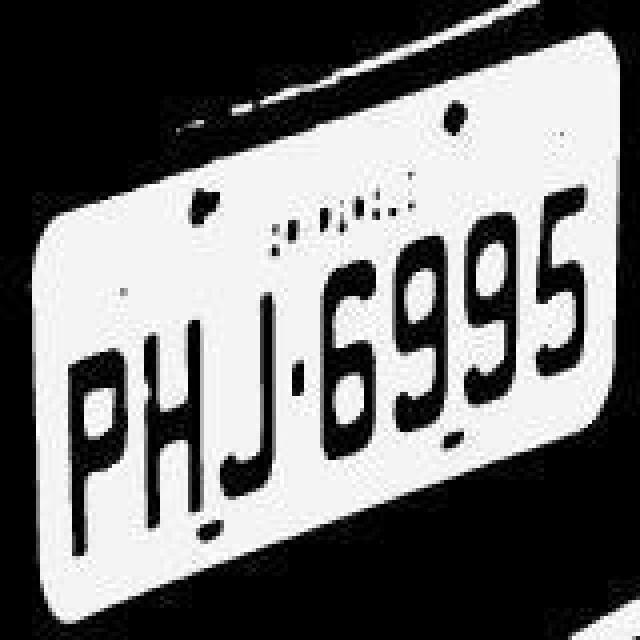5: (534, 168, 602, 384)
6: (318, 256, 386, 464)
9: (460, 188, 532, 404), (390, 220, 458, 436)
H: (140, 314, 212, 534)
J: (216, 290, 288, 502)
P: (58, 346, 134, 558)
